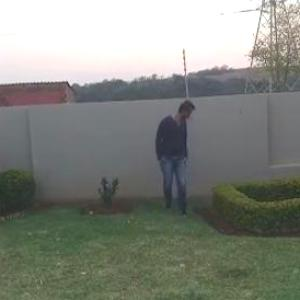follow: (151, 91, 193, 228)
